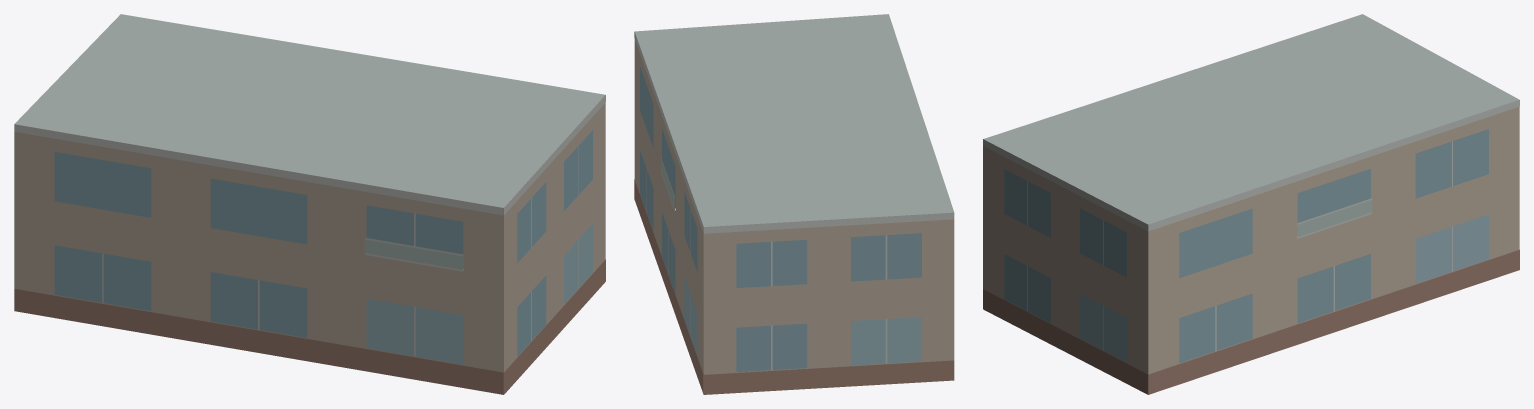
Rendered from survey-upis-32677974.glb.
3 views of the same model, side by side, from view 1: azimuth 30°, elevation 25°; view 2: azimuth 150°, elevation 25°; view 3: azimuth 270°, elevation 25° (orthographic). The views are drawn at different scales.
Visible parts, largest first — view 1: survey-upis-32677974.tmp; view 2: survey-upis-32677974.tmp; view 3: survey-upis-32677974.tmp.
Boxes of the visible parts, x1=… form: survey-upis-32677974.tmp: x1=14, y1=14, x2=605, y2=394; survey-upis-32677974.tmp: x1=634, y1=14, x2=954, y2=394; survey-upis-32677974.tmp: x1=983, y1=14, x2=1519, y2=394.
Size of the model in its own units: 16.2 by 6.1 by 17.44.
